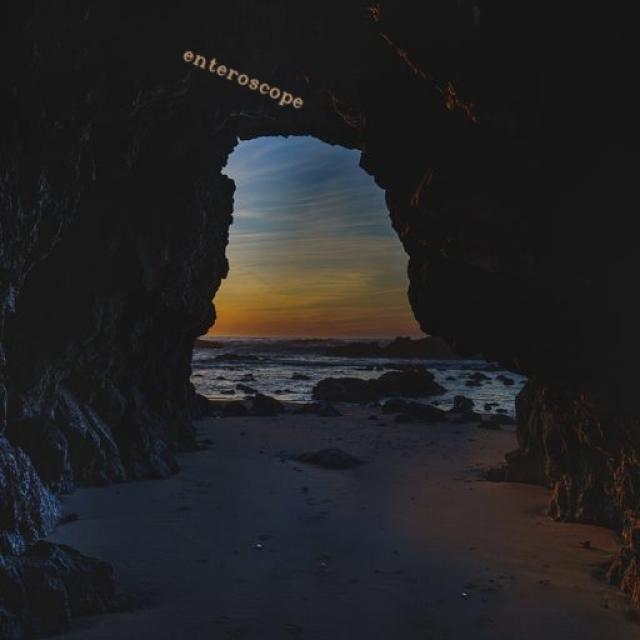watermark: (176, 44, 314, 111)
